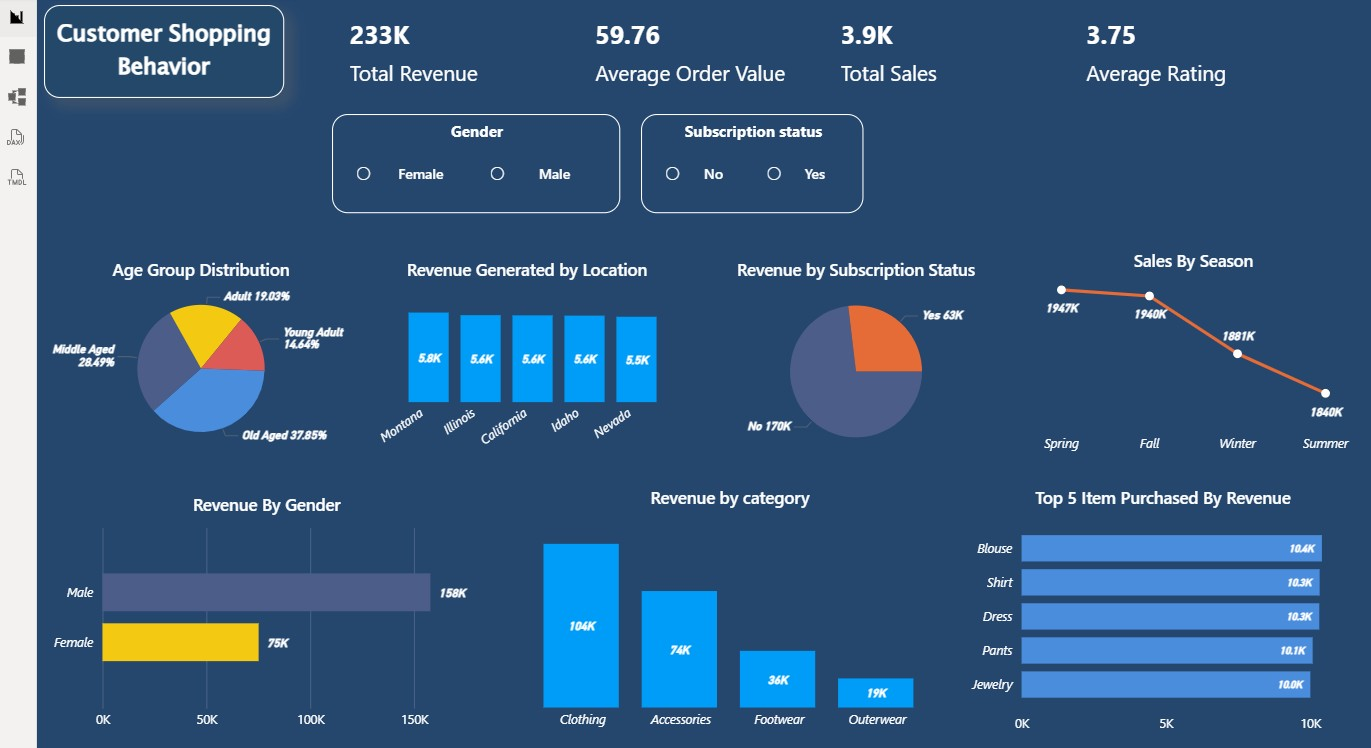

Layout of this report page (visuals, bound fields, positions):
{"tool":"powerbi","page":{"name":"Page 1","canvas":[1280,720],"ordinal":0},"visuals":[{"type":"textbox","box":[7.1,8,229.7,88.7],"z":1000},{"type":"pieChart","title":"Age Group Distribution","fields":{"Y":["CountNonNull(customer_shopping_behaviour customer.aged_group)"],"Category":["customer_shopping_behaviour customer.aged_group"]},"box":[6.7,249.9,300.6,190.5],"z":5000},{"type":"clusteredBarChart","title":"Revenue By Gender","fields":{"Category":["customer_shopping_behaviour customer.gender"],"Y":["Sum(customer_shopping_behaviour customer.purchase_amount)"]},"box":[7.1,475.3,426.5,235],"z":6000},{"type":"clusteredColumnChart","fields":{"Category":["customer_shopping_behaviour customer.location"],"Y":["Sum(customer_shopping_behaviour customer.purchase_amount)"]},"box":[318.8,249.9,300.6,203],"z":7000},{"type":"clusteredColumnChart","fields":{"Category":["customer_shopping_behaviour customer.category"],"Y":["Sum(customer_shopping_behaviour customer.purchase_amount)"]},"box":[442.5,468.2,442.5,242.1],"z":8000},{"type":"clusteredBarChart","title":"Top 5 Item Purchased By Revenue","fields":{"Category":["customer_shopping_behaviour customer.item_purchased"],"Y":["Sum(customer_shopping_behaviour customer.purchase_amount)"]},"box":[884.9,468.2,386.6,245.6],"z":9000},{"type":"pieChart","title":"Revenue by Subscription Status","fields":{"Category":["customer_shopping_behaviour customer.subscription_status"],"Y":["Sum(customer_shopping_behaviour customer.purchase_amount)"]},"box":[628,249.9,312.1,196.3],"z":10000},{"type":"lineChart","title":"Sales By Season","fields":{"Category":["customer_shopping_behaviour customer.season"],"Y":["Sum(customer_shopping_behaviour customer.customer_id)"]},"box":[942,241.3,330.3,204.9],"z":11000},{"type":"cardVisual","fields":{"Data":["customer_shopping_behaviour customer.Total Revenue","customer_shopping_behaviour customer.Average Order Value","customer_shopping_behaviour customer.Total Sales","Avg(customer_shopping_behaviour customer.review_rating)"]},"box":[282.4,7.7,948.8,89],"z":12001},{"type":"advancedSlicerVisual","title":"Gender","fields":{"Values":["customer_shopping_behaviour customer.gender"]},"box":[282.4,112,275.7,94.8],"z":12002},{"type":"advancedSlicerVisual","fields":{"Values":["customer_shopping_behaviour customer.subscription_status"]},"box":[578.2,112,213.5,94.8],"z":12003}]}

Visuals, with their boxes on the page's 1280x720 design canvas (x1, y1, x2, y2). These are canvas units, not pixel positions in the 1371x748 screenshot, which may show the page scaled, cropped or inside an application window:
textbox: locate(7, 8, 237, 97)
"Age Group Distribution" pieChart: locate(7, 250, 307, 440)
"Revenue By Gender" clusteredBarChart: locate(7, 475, 434, 710)
clusteredColumnChart - customer_shopping_behaviour customer.location x Sum(customer_shopping_behaviour customer.purchase_amount): locate(319, 250, 619, 453)
clusteredColumnChart - customer_shopping_behaviour customer.category x Sum(customer_shopping_behaviour customer.purchase_amount): locate(442, 468, 885, 710)
"Top 5 Item Purchased By Revenue" clusteredBarChart: locate(885, 468, 1272, 714)
"Revenue by Subscription Status" pieChart: locate(628, 250, 940, 446)
"Sales By Season" lineChart: locate(942, 241, 1272, 446)
cardVisual - customer_shopping_behaviour customer.Total Revenue x customer_shopping_behaviour customer.Average Order Value: locate(282, 8, 1231, 97)
"Gender" advancedSlicerVisual: locate(282, 112, 558, 207)
advancedSlicerVisual - customer_shopping_behaviour customer.subscription_status: locate(578, 112, 792, 207)
